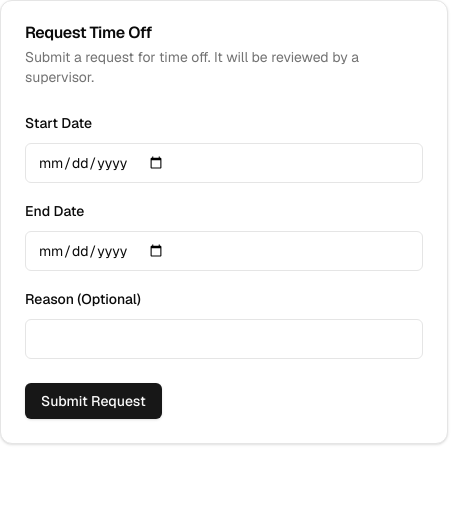
Test: TimeOffRequestForm › should display validation errors for empty fields on submit
Click the button "Submit Request": (93, 401) [25,383,162,419]
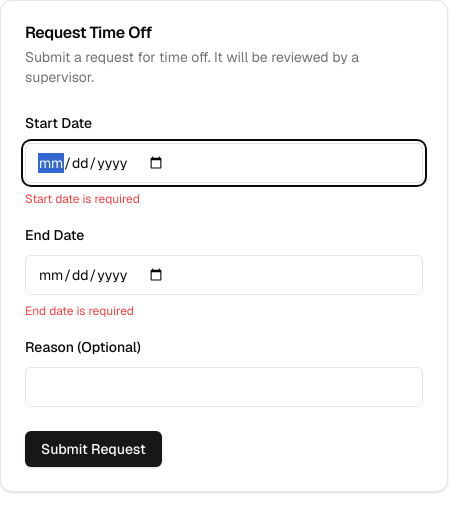
Result: the text "Start date is required" is shown at [25,191,140,207]
Result: the text "End date is required" is shown at [25,303,134,319]
